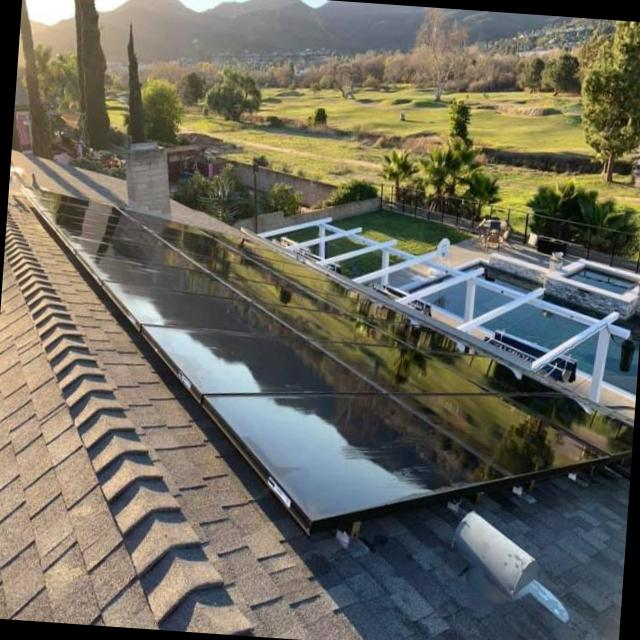no faulty: (204, 395, 511, 523), (397, 395, 607, 474), (141, 326, 374, 394), (101, 281, 300, 336), (312, 341, 488, 392), (75, 251, 249, 299), (507, 395, 634, 453), (256, 304, 414, 349), (55, 227, 204, 271), (428, 352, 565, 394), (216, 274, 345, 314), (354, 316, 480, 354), (42, 211, 169, 245), (183, 253, 301, 286), (310, 292, 411, 323), (276, 270, 376, 301)
